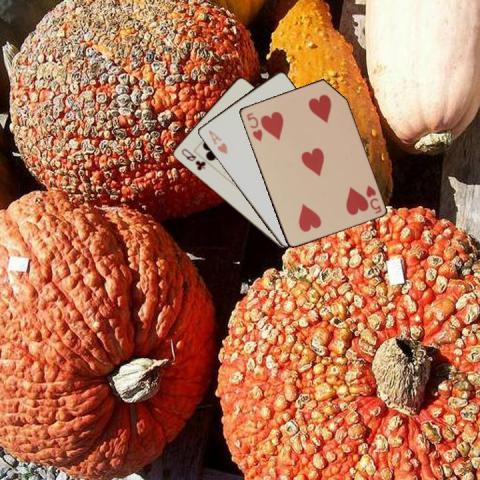5h: (243, 110, 264, 144), (362, 182, 382, 215)
Ah: (205, 127, 229, 156)
Qc: (178, 145, 207, 172)
